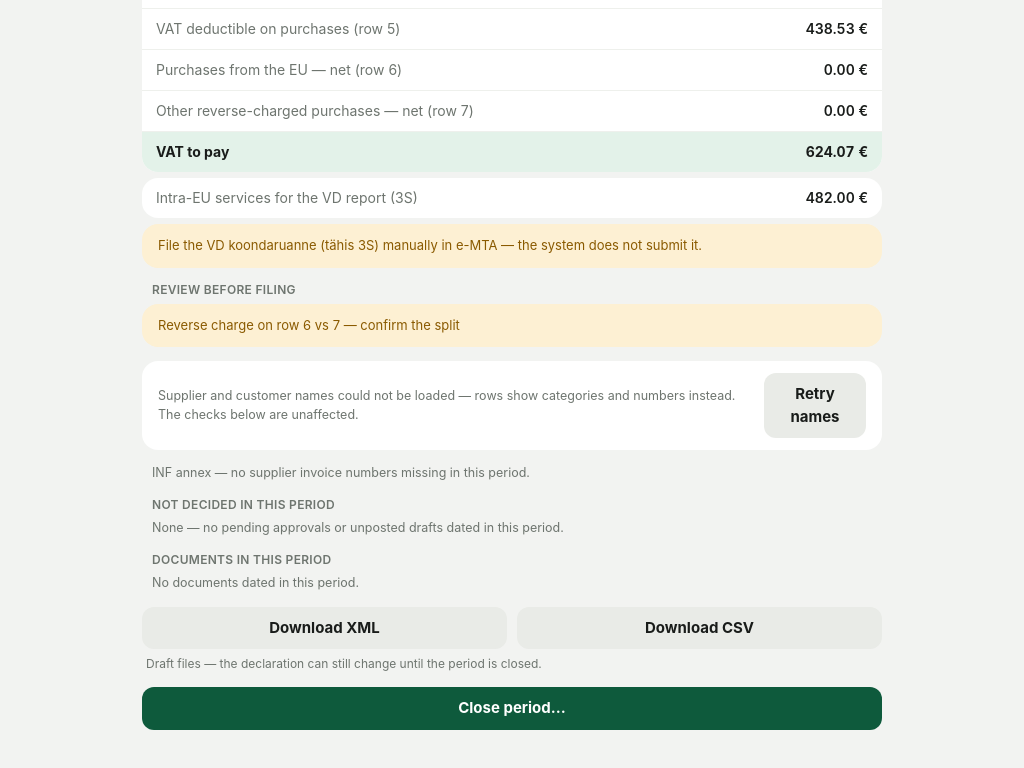
Test: PeriodScreen › issue #255: a failed declaration refresh keeps the cached boxes with a refresh error; names failure is labeled, not a failed check
(page scrolled)
Expected: the text "Supplier and customer names could not be loaded" is shown, [158, 388, 735, 422]
Expected: the button "Retry names" is shown, [764, 373, 866, 438]
Click the button "Close period…". click: {"x": 512, "y": 708}
box: [142, 687, 882, 730]
(page scrolled)
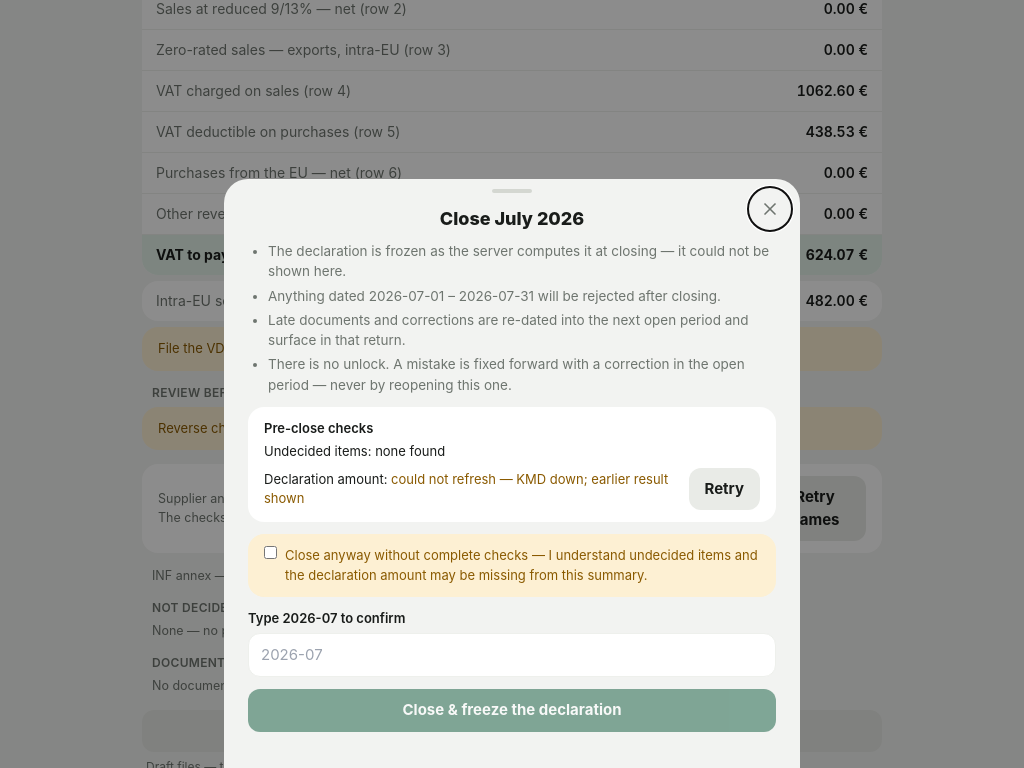
Expected: the button "Close & freeze the declaration" is disabled, [248, 690, 776, 732]
